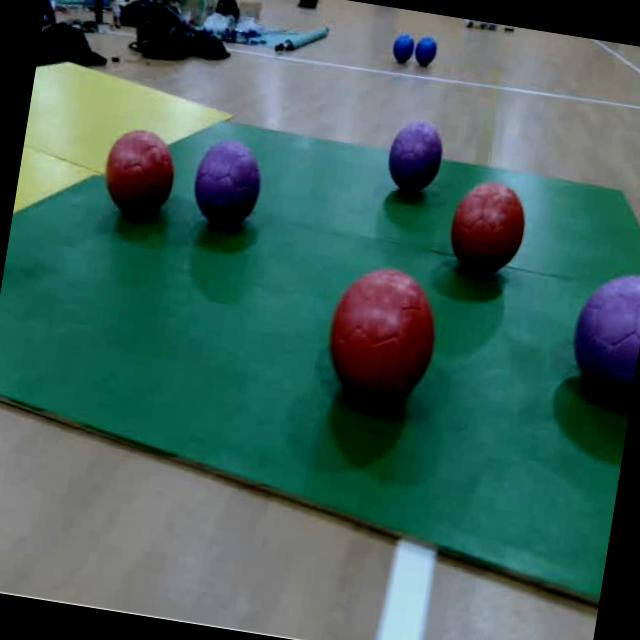blue_ball: (414, 34, 441, 70), (389, 32, 416, 64)
purple_ball: (564, 265, 640, 409), (186, 134, 270, 235), (382, 117, 448, 200)
red_ball: (325, 262, 448, 409), (442, 178, 530, 284), (102, 125, 184, 226)
